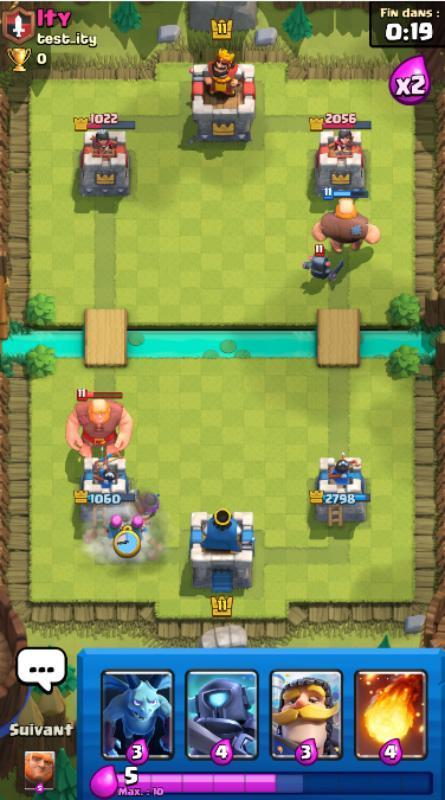enemy_giant: (63, 388, 136, 460)
enemy_mini_pekka: (296, 246, 350, 287)
player_archers: (103, 506, 126, 541), (127, 506, 149, 537)
player_giant: (309, 193, 384, 255)
